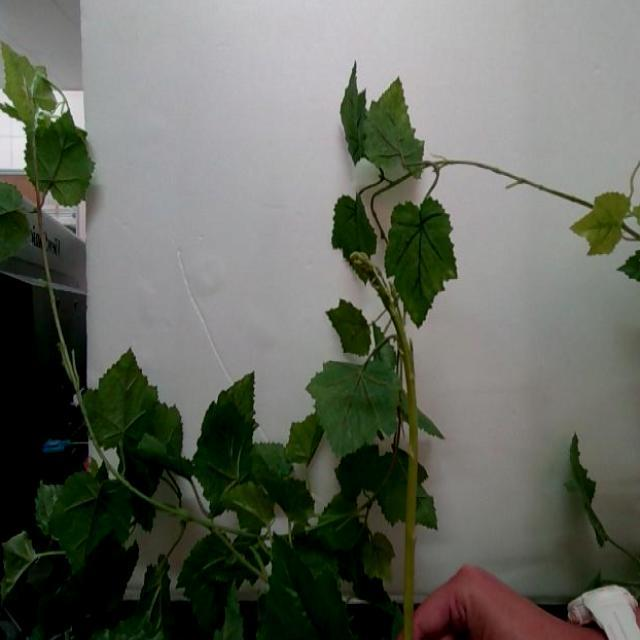aspargus: (346, 251, 420, 640)
